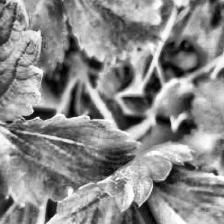Powdery Mildew Leaf: (40, 141, 196, 224)
